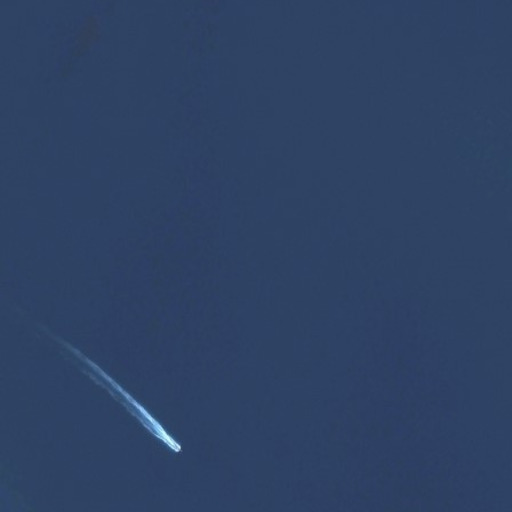ship: (163, 433, 184, 457)
